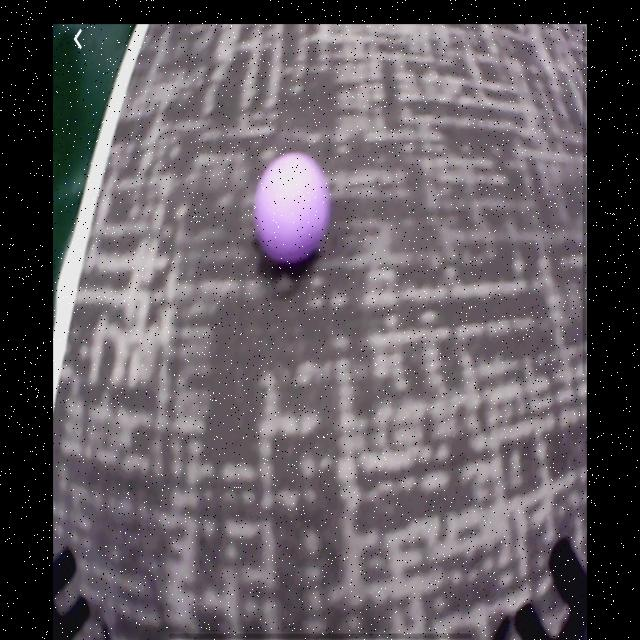ball: (254, 154, 329, 267)
